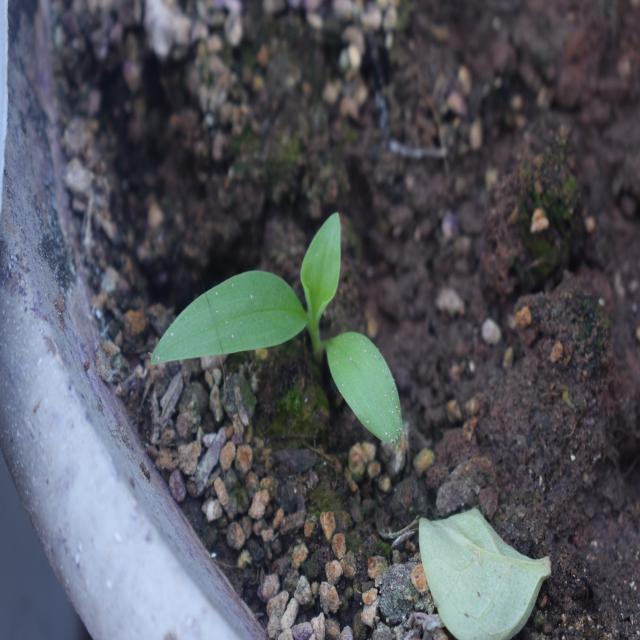Common Dayflower: (162, 197, 399, 443)
